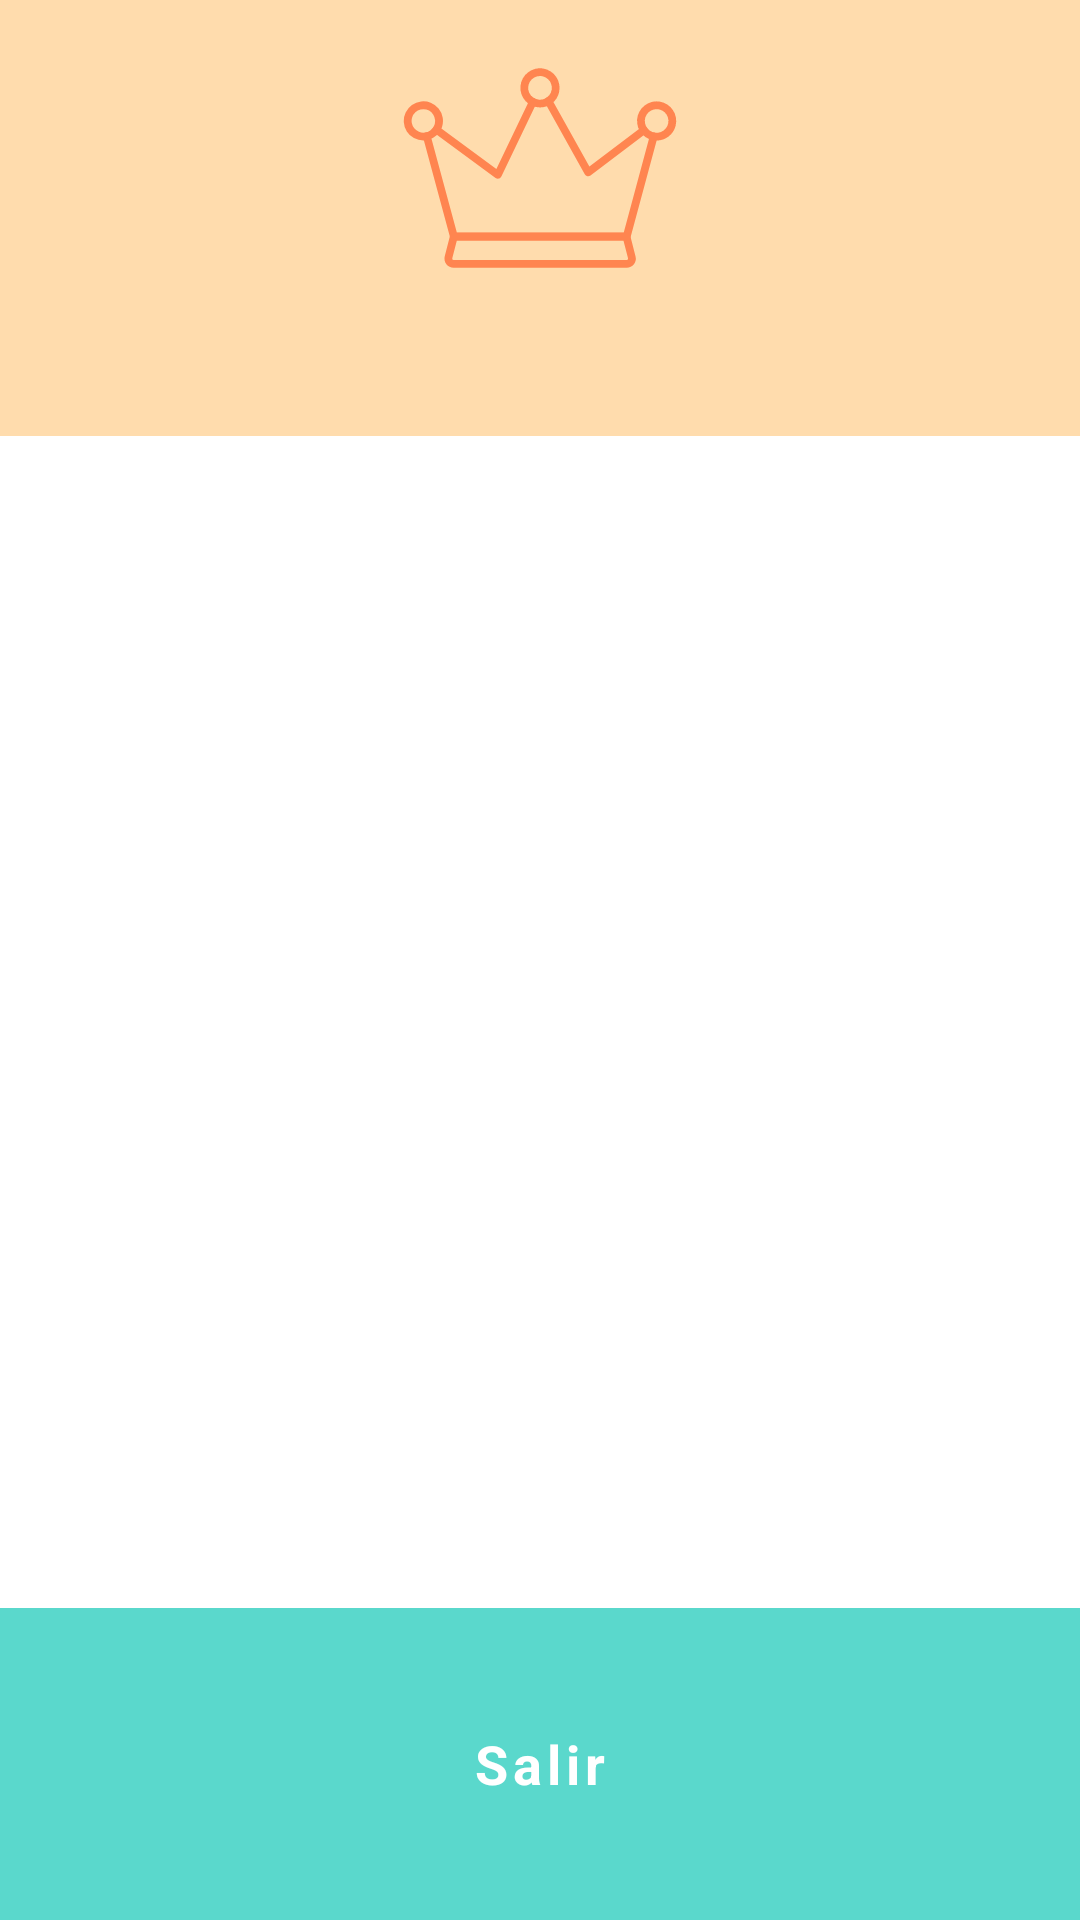

Locate icon controls on the screen. Image size 1080 x 1920, boxes as (x1, y1, x2, y2).
crown: (404, 68, 676, 268)
